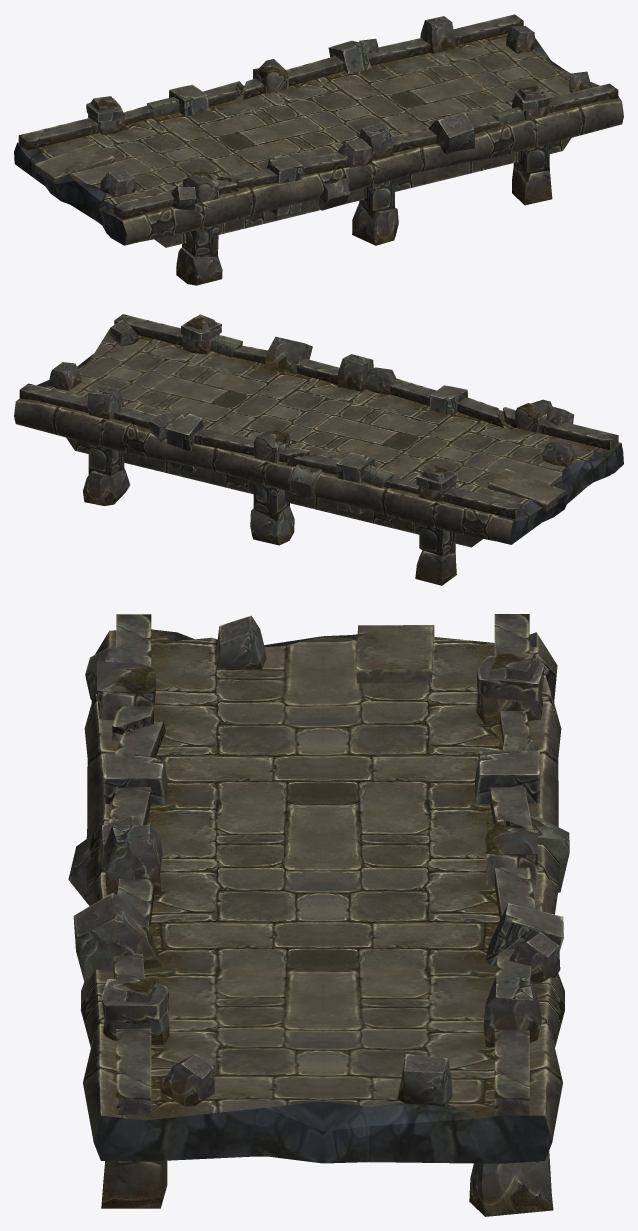
The model's file is C_shiqiao.fbx.
The picture shows the model from 3 angles, top to bottom: view 1: azimuth 30°, elevation 25°; view 2: azimuth 150°, elevation 25°; view 3: azimuth 270°, elevation 25°; orthographic projection. The views are drawn at different scales.
Visible parts, largest first — view 1: C_shiqiao; view 2: C_shiqiao; view 3: C_shiqiao.
Boxes of the visible parts, bbox=[...] form: C_shiqiao: bbox=[14, 14, 623, 285]; C_shiqiao: bbox=[14, 314, 623, 585]; C_shiqiao: bbox=[68, 614, 569, 1216].
Size of the model in its own units: 1026 by 209 by 438.
